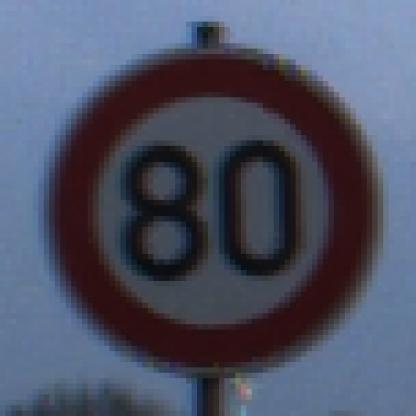Speed Limit 80: (56, 53, 374, 369)
